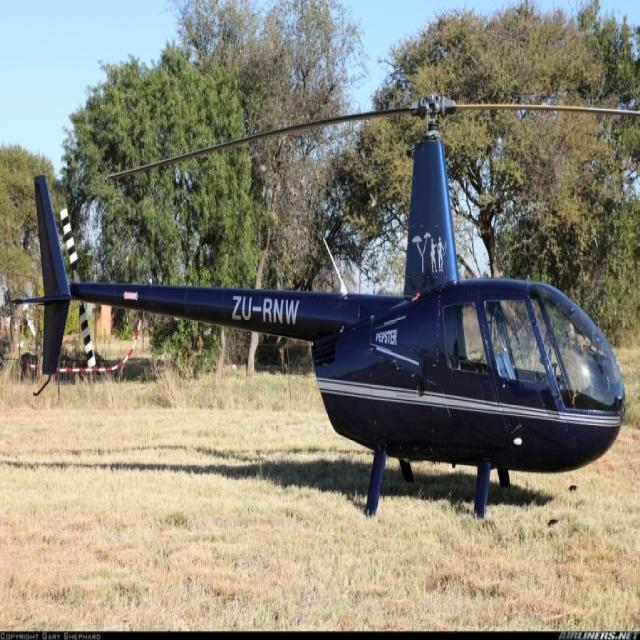CIV_HELO: (9, 90, 627, 548)
